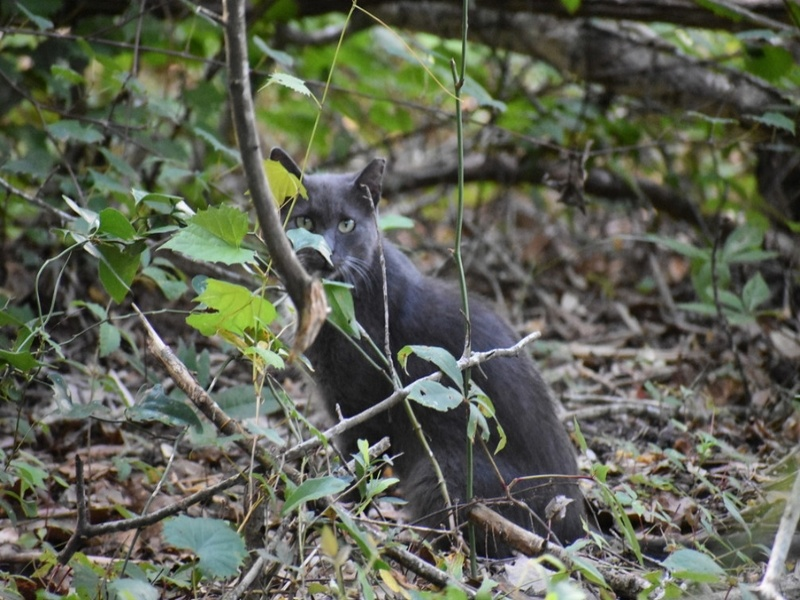cat: (257, 145, 611, 566)
